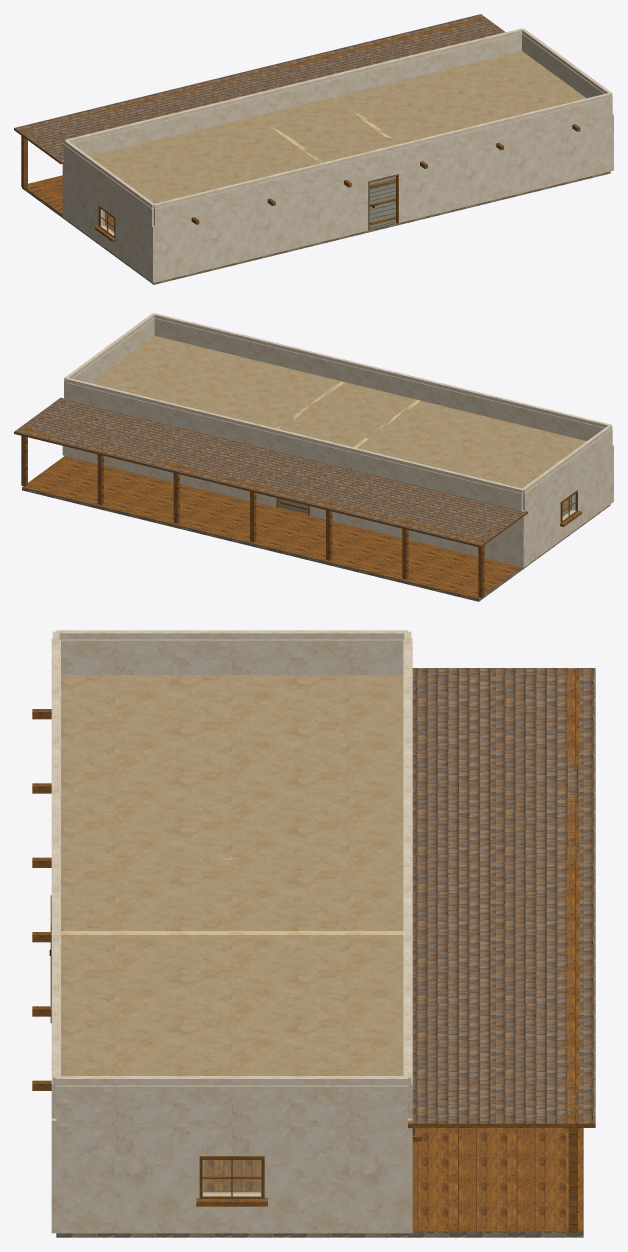
File: frontier-adobe-barracks-porch.gltf
The picture shows the model from 3 angles, top to bottom: view 1: azimuth 30°, elevation 25°; view 2: azimuth 150°, elevation 25°; view 3: azimuth 270°, elevation 25°; orthographic projection. The views are drawn at different scales.
Parts seen in each view (by area): view 1: exterior-L0-adobe, roof-L1-earth, roof-parapet-L1-adobe, roof-L1-shingle, datum-band-L0-adobe, structure-L0-wood, floor-L0-stone, door-L0-door, floor-L0-wood; view 2: roof-L1-earth, roof-parapet-L1-adobe, roof-L1-shingle, floor-L0-wood, exterior-L0-adobe, structure-L0-wood, floor-L0-stone, roof-L1-wood; view 3: roof-L1-earth, roof-L1-shingle, roof-parapet-L1-adobe, exterior-L0-adobe, floor-L0-wood, structure-L0-wood, floor-L0-stone, datum-band-L0-adobe, glazing-L0-glass, interior-L0-plaster, roof-trim-L1-wood, facade-trim-L0-trim (+1 smaller).
Boxes of the visible parts, x1,y1,x2,y2 form: exterior-L0-adobe: [62, 117, 613, 282]; roof-L1-earth: [90, 51, 586, 203]; roof-parapet-L1-adobe: [64, 28, 612, 226]; roof-L1-shingle: [14, 14, 505, 162]; datum-band-L0-adobe: [63, 113, 613, 229]; structure-L0-wood: [20, 17, 486, 188]; floor-L0-stone: [22, 171, 610, 284]; door-L0-door: [369, 176, 395, 228]; floor-L0-wood: [26, 175, 114, 230]; roof-L1-earth: [90, 336, 586, 488]; roof-parapet-L1-adobe: [64, 313, 612, 510]; roof-L1-shingle: [14, 397, 527, 545]; floor-L0-wood: [22, 456, 570, 598]; exterior-L0-adobe: [62, 446, 613, 567]; structure-L0-wood: [21, 428, 486, 597]; floor-L0-stone: [22, 487, 610, 601]; roof-L1-wood: [14, 432, 527, 547]; roof-L1-earth: [61, 675, 403, 1075]; roof-L1-shingle: [408, 668, 595, 1123]; roof-parapet-L1-adobe: [51, 630, 412, 1120]; exterior-L0-adobe: [51, 1127, 412, 1233]; floor-L0-wood: [203, 1128, 583, 1231]; structure-L0-wood: [566, 669, 580, 1233]; floor-L0-stone: [56, 1231, 583, 1237]; datum-band-L0-adobe: [51, 1118, 412, 1126]; glazing-L0-glass: [203, 1160, 260, 1193]; interior-L0-plaster: [61, 858, 403, 934]; roof-trim-L1-wood: [32, 709, 51, 1090]; facade-trim-L0-trim: [199, 1128, 414, 1198].
Bounding box in the file's own units: 18.48 × 3.01 × 9.6.
10 materials, 9 textured.
